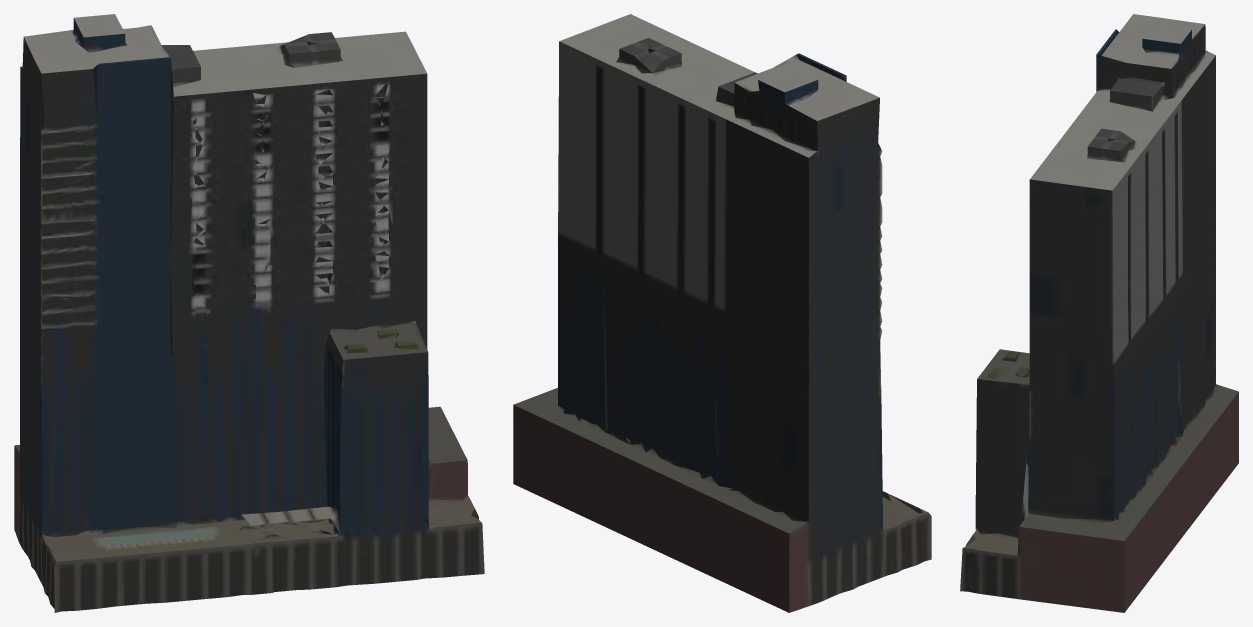
Rendered from t_-1_8.coat.glb.
The picture shows the model from 3 angles, left to right: view 1: azimuth 30°, elevation 25°; view 2: azimuth 150°, elevation 25°; view 3: azimuth 270°, elevation 25°; orthographic projection. The views are drawn at different scales.
Parts seen in each view (by area): view 1: far; view 2: far; view 3: far.
Part boxes in pixels (x1,y1,x2,y2): far: (14, 14, 484, 612); far: (513, 14, 931, 612); far: (960, 14, 1238, 612).
Bounding box in the file's own units: 90.25 × 109 × 61.57.
1 material, 1 textured.
